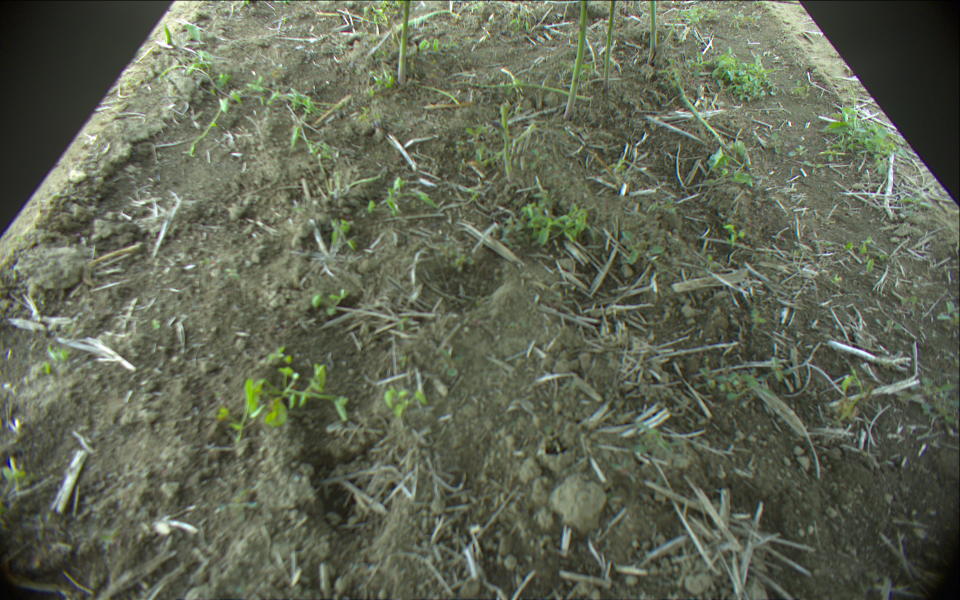aspa: (676, 76, 723, 148), (563, 1, 589, 119), (455, 79, 590, 99), (396, 7, 460, 32), (397, 1, 412, 85), (500, 105, 514, 181), (604, 1, 616, 85), (644, 1, 657, 71)
